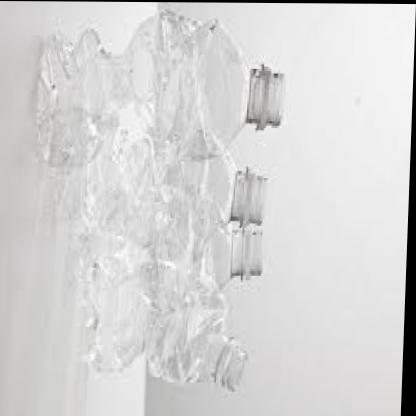Plastic: (30, 7, 304, 163), (70, 269, 260, 390), (50, 144, 280, 242), (67, 209, 276, 290)
